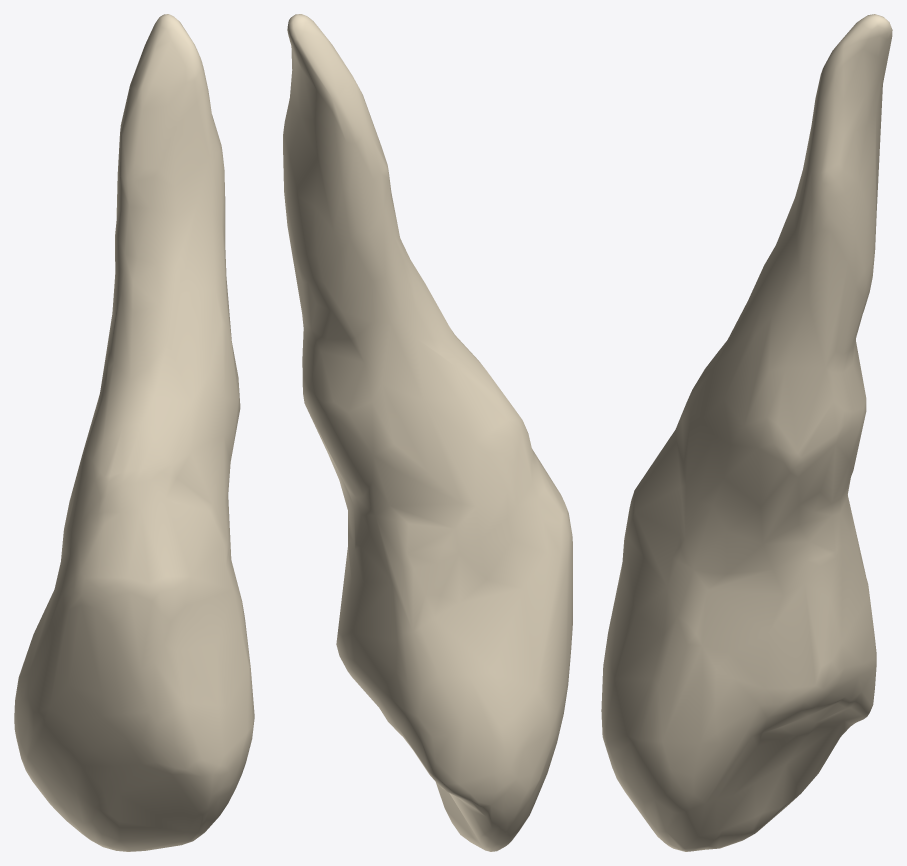
Rendered from upper-canine-r.glb.
3 views of the same model, side by side, from view 1: azimuth 30°, elevation 25°; view 2: azimuth 150°, elevation 25°; view 3: azimuth 270°, elevation 25° (orthographic). The views are drawn at different scales.
Parts seen in each view (by area): view 1: Upper canine.r; view 2: Upper canine.r; view 3: Upper canine.r.
Boxes of the visible parts, x1,y1,x2,y2 form: Upper canine.r: [14, 14, 254, 851]; Upper canine.r: [283, 14, 572, 851]; Upper canine.r: [601, 14, 892, 851].
Size of the model in its own units: 0.00906 by 0.0306 by 0.0091.
